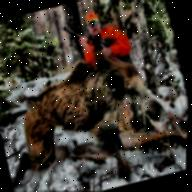boar: (0, 40, 190, 192)
